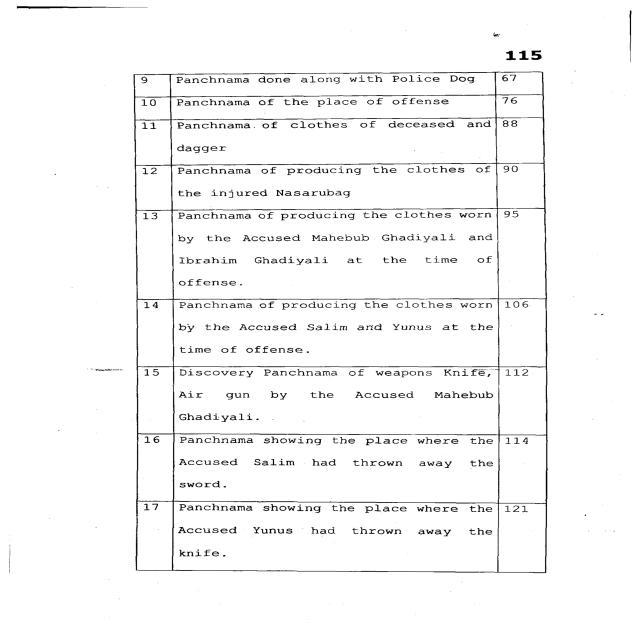page-number: (420, 0, 640, 68)
